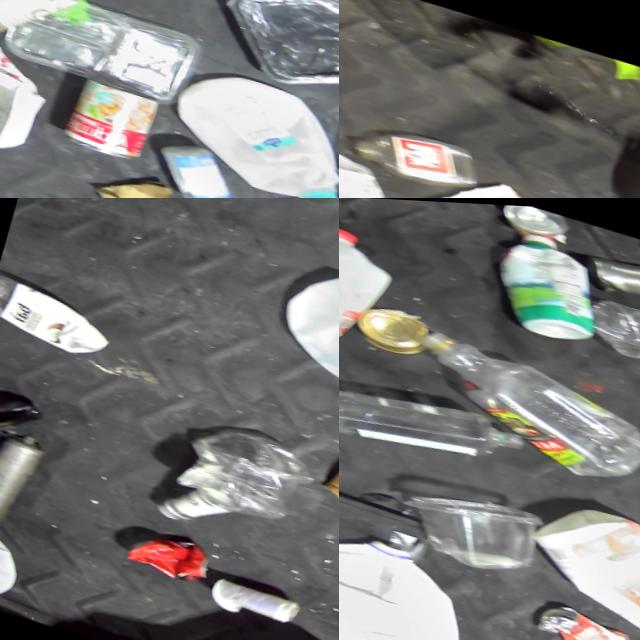can: (65, 74, 161, 162), (534, 594, 638, 640), (357, 298, 429, 357), (580, 244, 640, 304), (492, 201, 571, 236)
milk_jug: (164, 56, 339, 198), (339, 509, 488, 640), (258, 252, 339, 442), (339, 198, 410, 365), (0, 489, 34, 611)
non_white_jug: (525, 490, 640, 636)
plastic_bottle: (401, 320, 640, 479), (339, 374, 530, 476), (0, 256, 123, 366)
